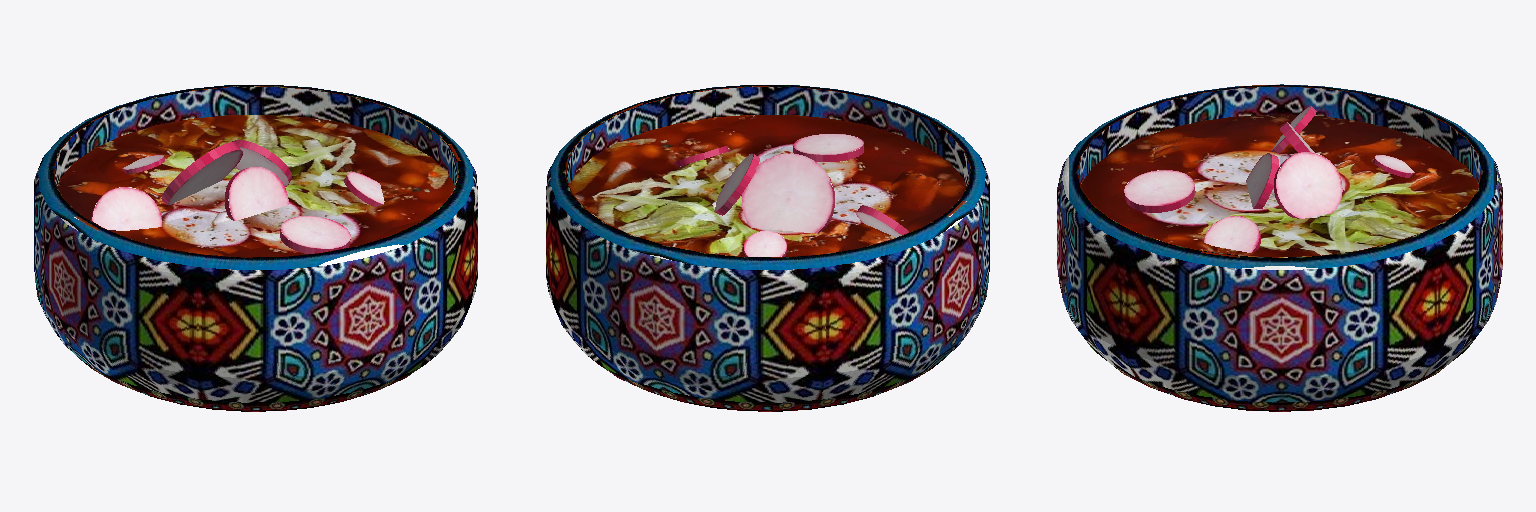
The picture shows the model from 3 angles: view 1: azimuth 30°, elevation 25°; view 2: azimuth 150°, elevation 25°; view 3: azimuth 270°, elevation 25°; orthographic projection.
Visible parts, largest first — view 1: Tazon_Circle, Circle.007_Circle.008, Circle.003_Circle.004, Circle.006_Circle.007, Circle.004_Circle.005, Circle_Circle.001, Circle.002_Circle.003; view 2: Tazon_Circle, Circle.006_Circle.007, Circle.004_Circle.005, Circle_Circle.001, Circle.005_Circle.006, Circle.003_Circle.004; view 3: Tazon_Circle, Circle_Circle.001, Circle.004_Circle.005, Circle.002_Circle.003, Circle.007_Circle.008, Circle.005_Circle.006, Circle.003_Circle.004.
Part boxes in pixels (x1,y1,x2,y2): Tazon_Circle: (34, 85, 477, 411); Circle.007_Circle.008: (225, 167, 288, 220); Circle.003_Circle.004: (91, 187, 161, 230); Circle.006_Circle.007: (161, 142, 242, 204); Circle.004_Circle.005: (280, 216, 350, 253); Circle_Circle.001: (232, 140, 291, 186); Circle.002_Circle.003: (344, 172, 384, 206); Tazon_Circle: (546, 85, 989, 411); Circle.006_Circle.007: (742, 153, 834, 233); Circle.004_Circle.005: (793, 134, 863, 161); Circle_Circle.001: (714, 153, 759, 215); Circle.005_Circle.006: (744, 231, 786, 256); Circle.003_Circle.004: (856, 205, 908, 237); Tazon_Circle: (1057, 84, 1502, 411); Circle_Circle.001: (1274, 152, 1342, 218); Circle.004_Circle.005: (1124, 170, 1195, 212); Circle.002_Circle.003: (1204, 216, 1260, 252); Circle.007_Circle.008: (1246, 153, 1278, 208); Circle.005_Circle.006: (1373, 155, 1414, 177); Circle.003_Circle.004: (1271, 106, 1316, 152).
Bounding box in the file's own units: 8.99 × 5.07 × 8.99.
Materials: 8 (1 with a texture image).